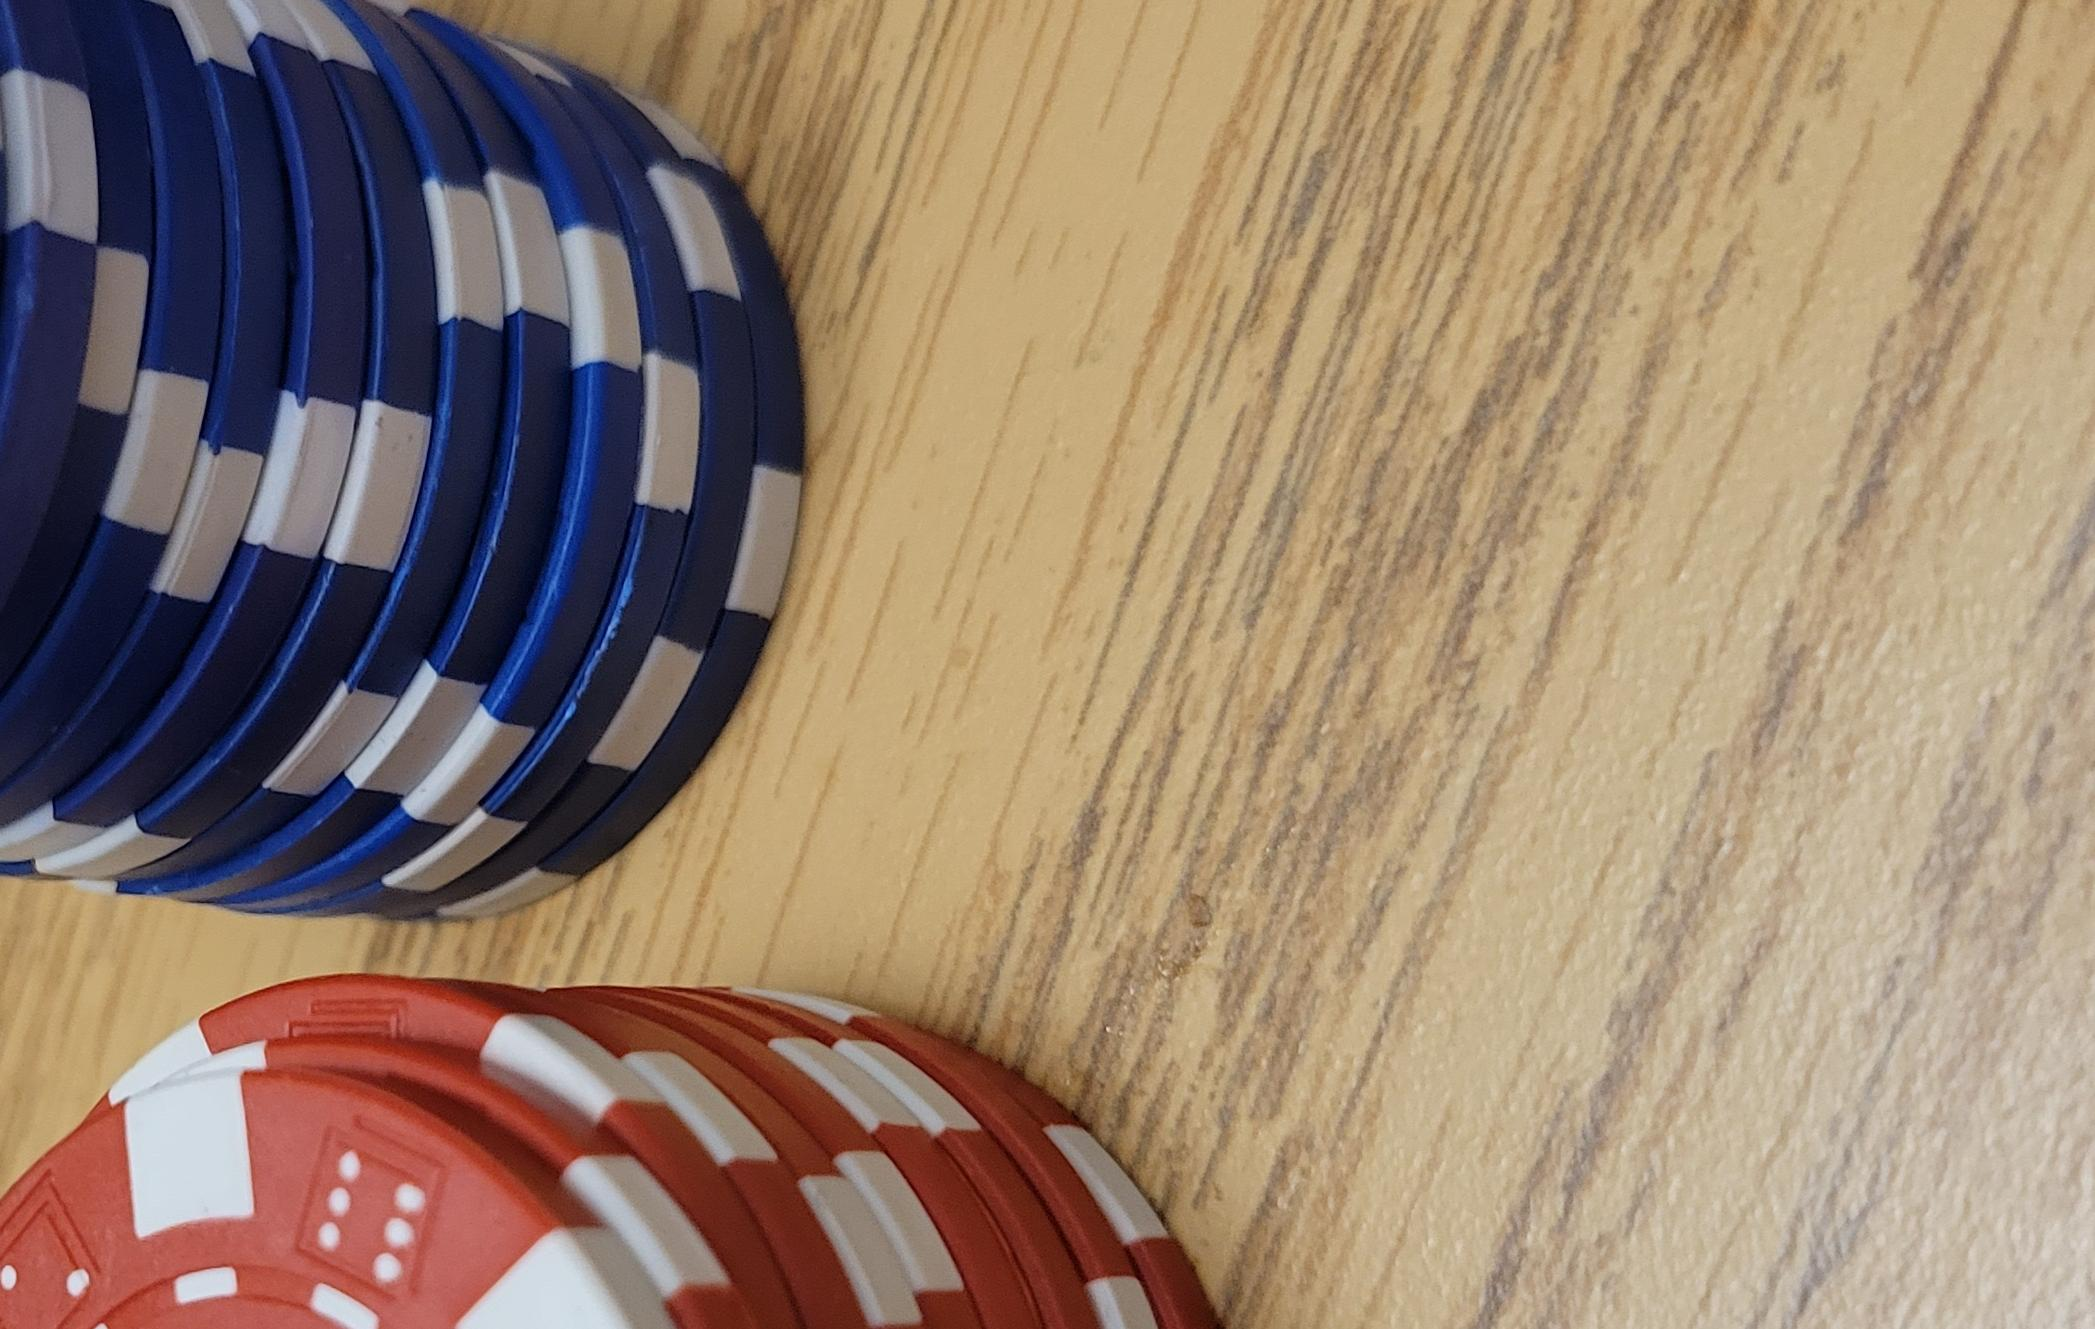Chip: (2, 202, 1147, 1329)
